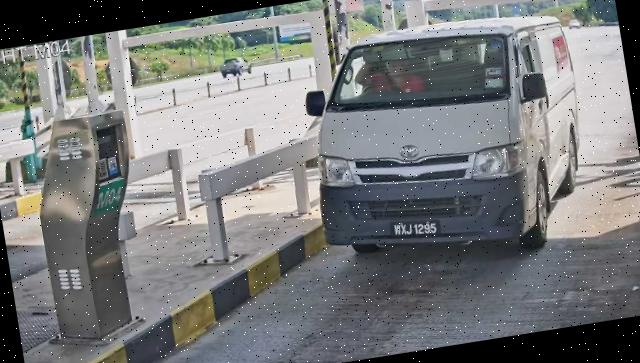License_Plate: (389, 213, 445, 247)
van: (296, 5, 601, 282)
